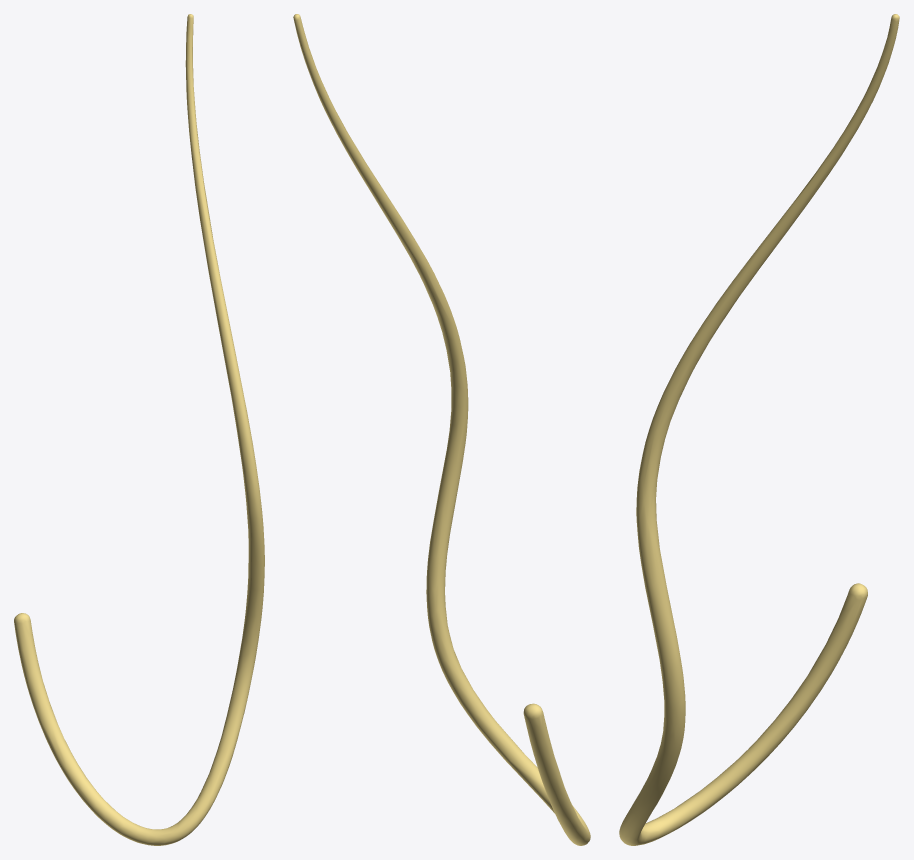
File: fma80694_fj4021.glb
The picture shows the model from 3 angles, left to right: view 1: azimuth 30°, elevation 25°; view 2: azimuth 150°, elevation 25°; view 3: azimuth 270°, elevation 25°; orthographic projection. The views are drawn at different scales.
Parts seen in each view (by area): view 1: FMA80694_FJ4021; view 2: FMA80694_FJ4021; view 3: FMA80694_FJ4021.
Boxes of the visible parts, x1,y1,x2,y2 form: FMA80694_FJ4021: (14, 14, 264, 845); FMA80694_FJ4021: (293, 14, 590, 845); FMA80694_FJ4021: (619, 14, 899, 845).
Size of the model in its own units: 0.0142 by 0.0511 by 0.0143.
